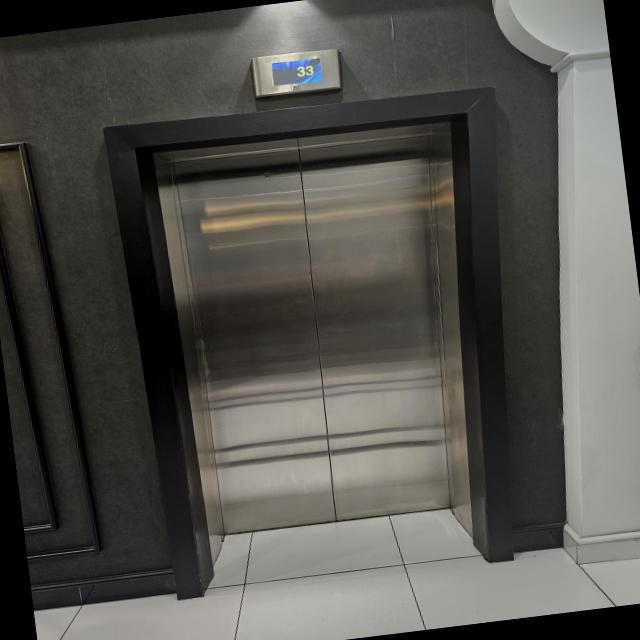elevator: (94, 73, 564, 619)
